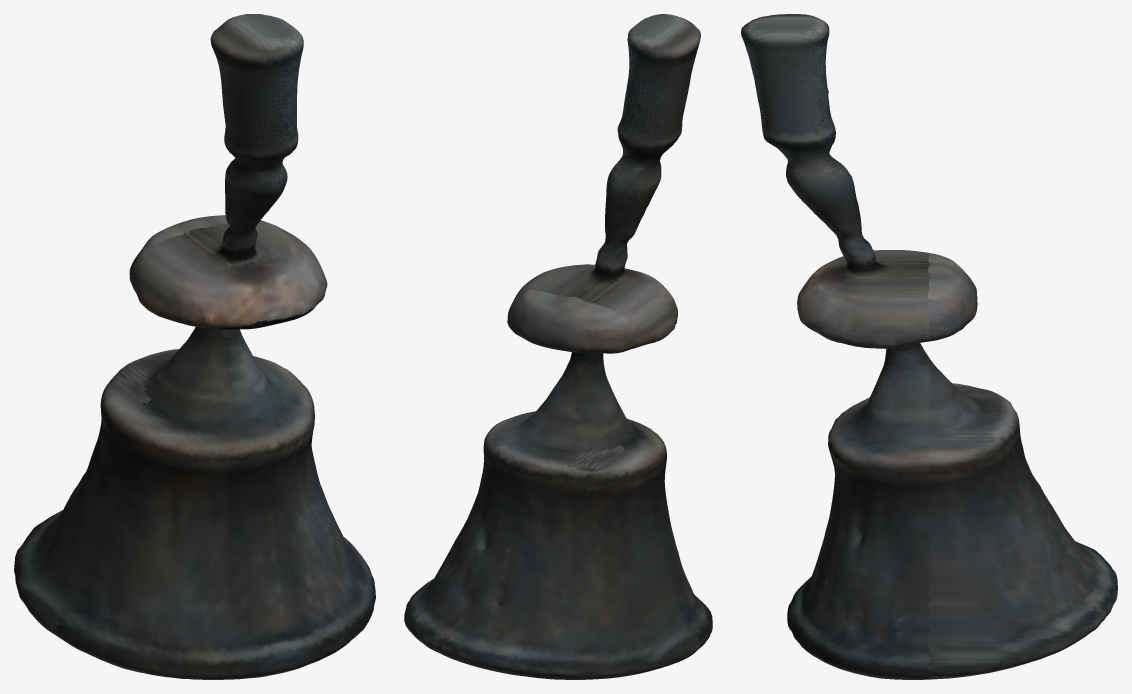
Rendered from kfl-2151.glb.
The picture shows the model from 3 angles, left to right: view 1: azimuth 30°, elevation 25°; view 2: azimuth 150°, elevation 25°; view 3: azimuth 270°, elevation 25°; orthographic projection. The views are drawn at different scales.
Visible parts, largest first — view 1: geometry_0; view 2: geometry_0; view 3: geometry_0.
Part boxes in pixels (left/top/right/bottom): geometry_0: left=14, top=14, right=375, bottom=679; geometry_0: left=404, top=14, right=712, bottom=679; geometry_0: left=741, top=14, right=1117, bottom=679.
Bounding box in the file's own units: 0.4919 × 0.9992 × 0.5728.
Materials: 1 (1 with a texture image).
